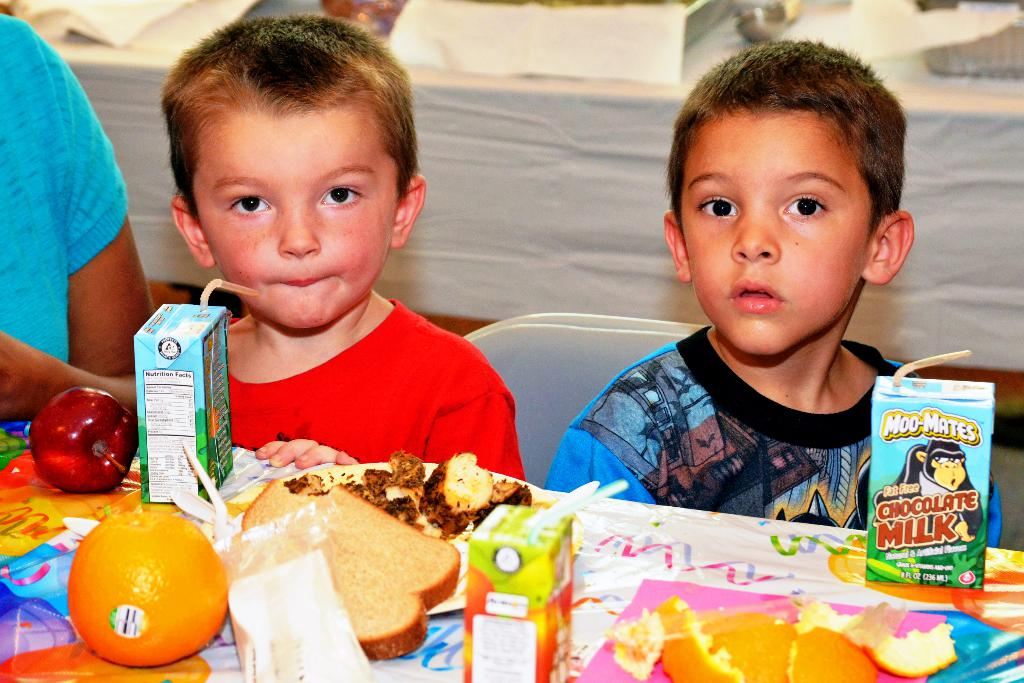Ripe: (70, 513, 227, 663)
